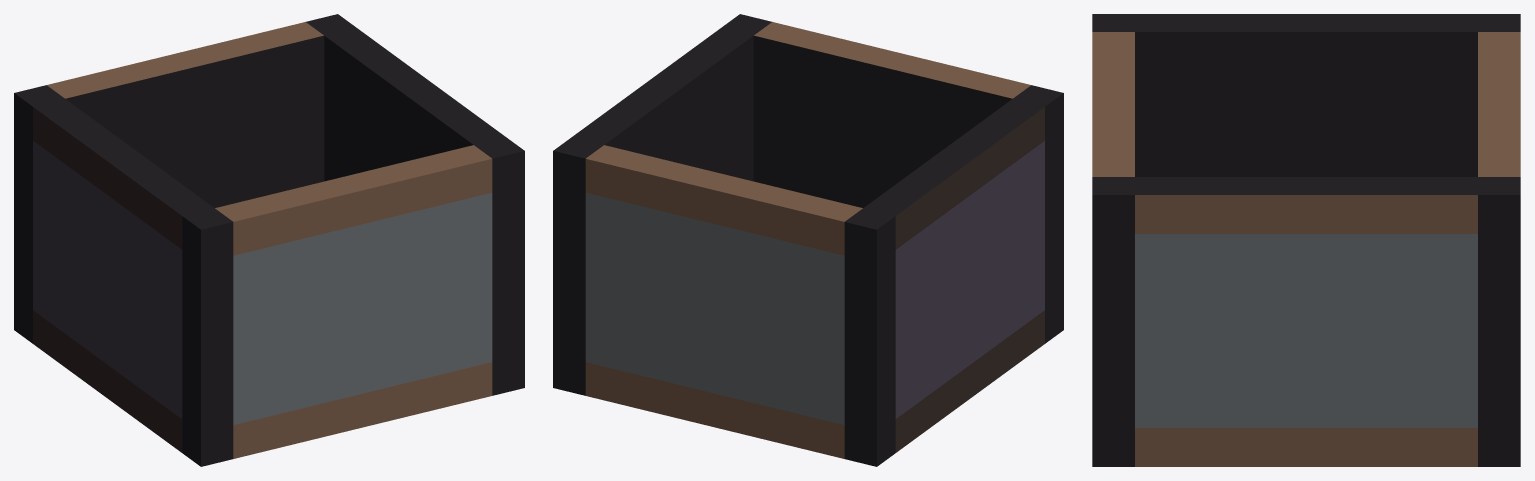
Rendered from gatekeeper_BracerR.glb.
3 renders of one model, left to right at view 1: azimuth 30°, elevation 25°; view 2: azimuth 150°, elevation 25°; view 3: azimuth 270°, elevation 25°, orthographic. The views are drawn at different scales.
Visible parts, largest first — view 1: gatekeeper_BracerR; view 2: gatekeeper_BracerR; view 3: gatekeeper_BracerR.
Part boxes in pixels (bbox=[...]): gatekeeper_BracerR: bbox=[14, 14, 524, 466]; gatekeeper_BracerR: bbox=[553, 14, 1063, 466]; gatekeeper_BracerR: bbox=[1092, 14, 1520, 466].
Bounding box in the file's own units: 1.25 × 0.875 × 1.25.
1 material, 1 textured.
